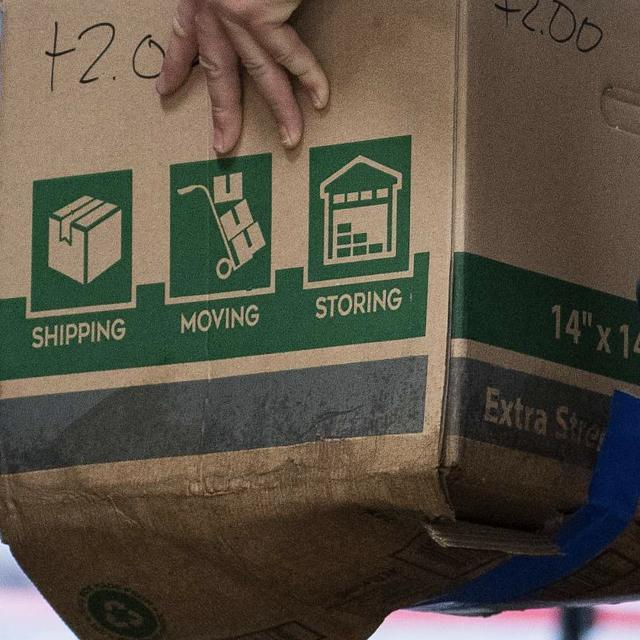wet: (16, 458, 640, 640)
